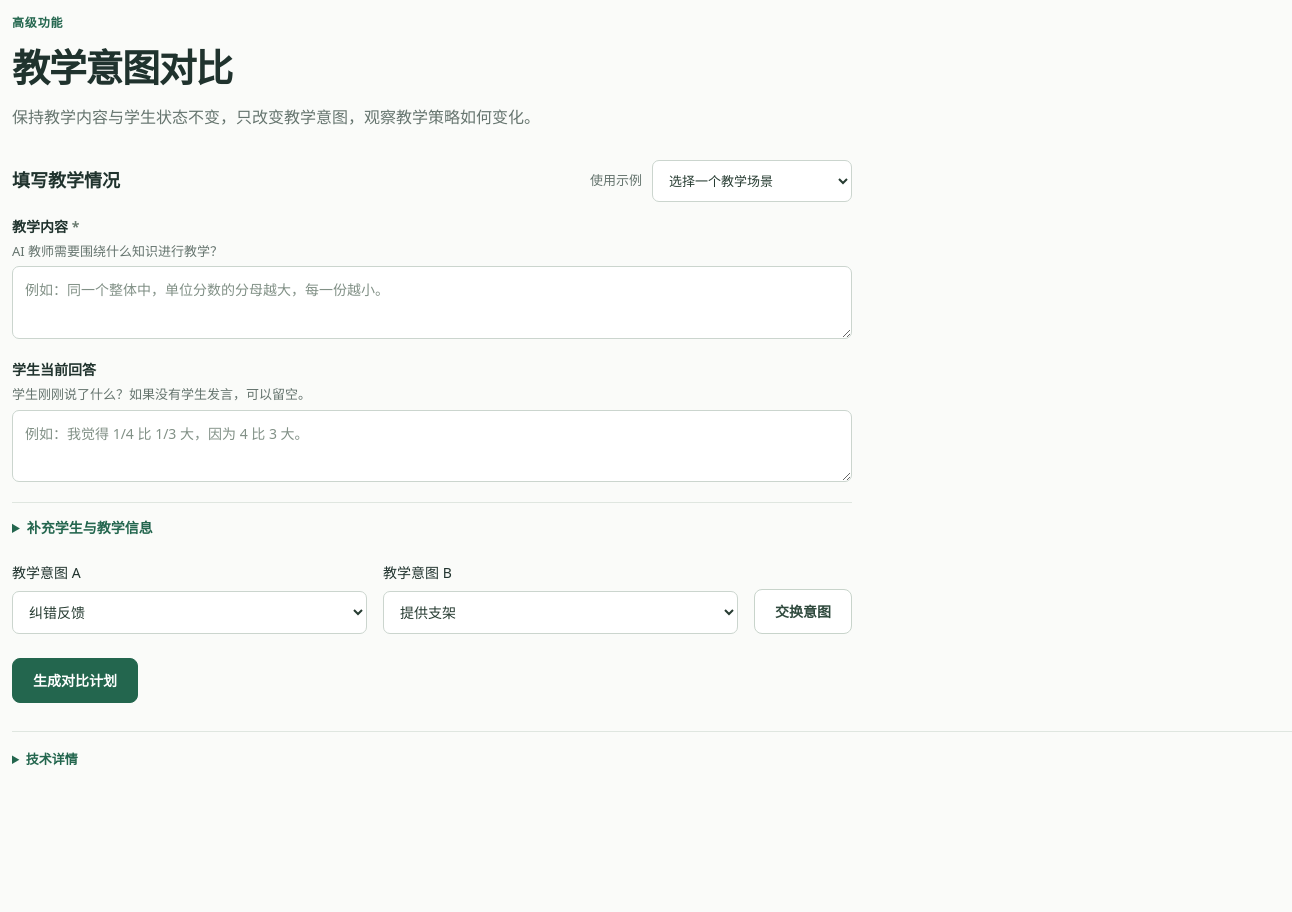
it: swaps intents and prevents identical-intent comparisons
Click the button "交换意图" at (803, 611), box [754,589,852,634]
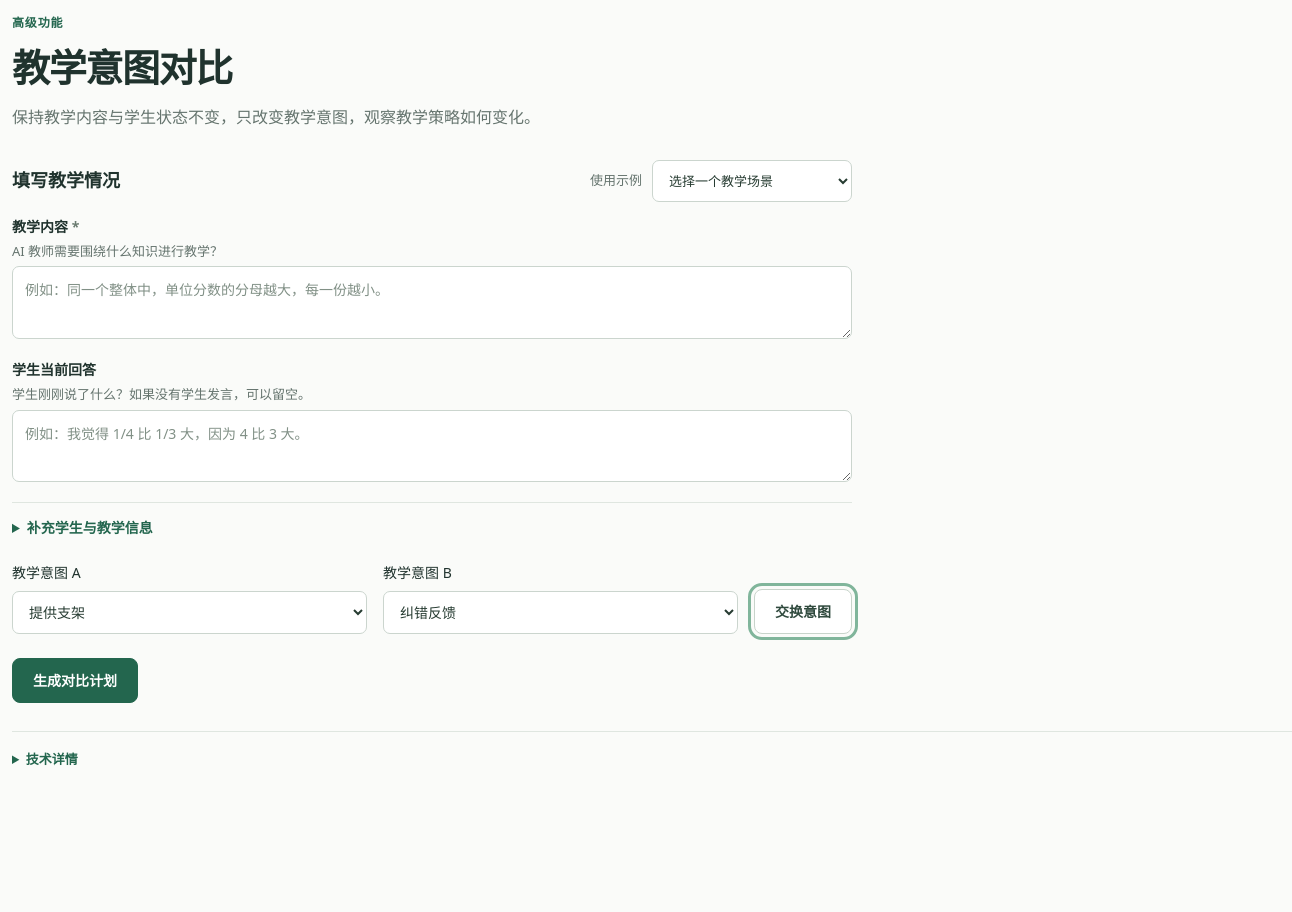
Expected: the dropdown labelled "教学意图 A" shows "提供支架", [12,591,367,634]
Select "提供支架" in the dropdown labelled "教学意图 B" at (560, 612), box [383,591,738,634]
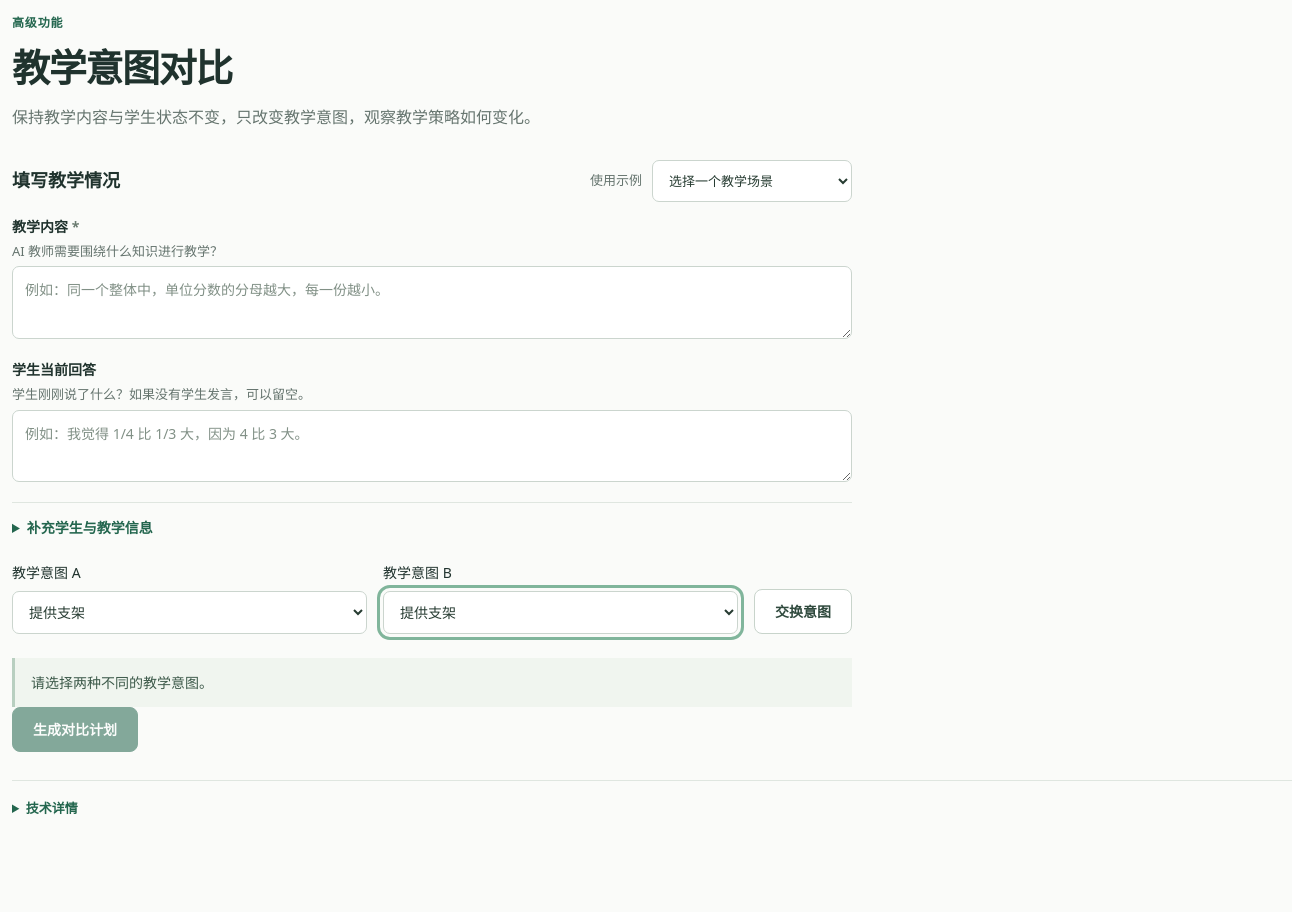
Expected: the button "生成对比计划" is disabled, [12,707,138,752]
